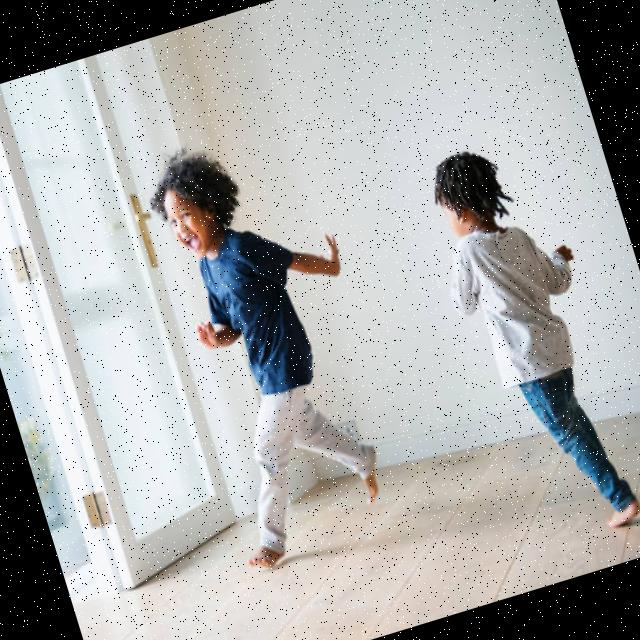Person: (127, 117, 420, 570), (414, 130, 640, 552)
